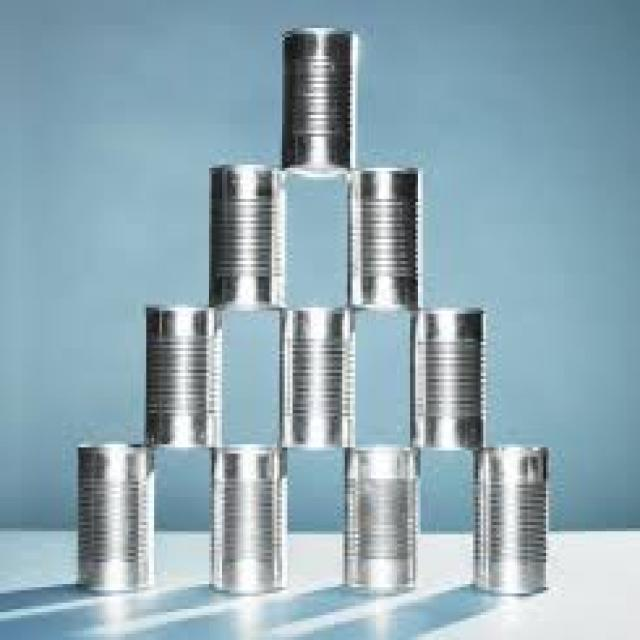metal: (470, 445, 549, 594), (73, 441, 152, 590), (277, 305, 353, 451), (206, 445, 282, 591), (280, 25, 353, 174), (343, 441, 416, 590), (405, 308, 481, 451), (345, 162, 418, 308), (207, 162, 280, 308), (144, 302, 217, 448)
